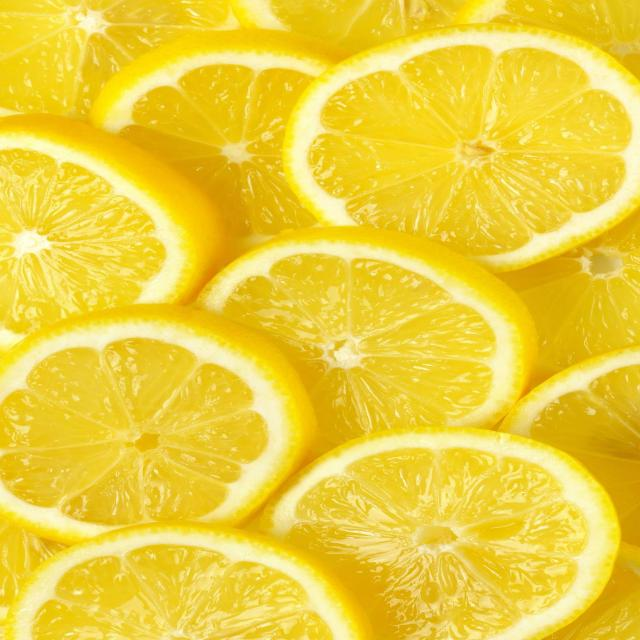lemon: (274, 20, 640, 278), (1, 296, 363, 556)
